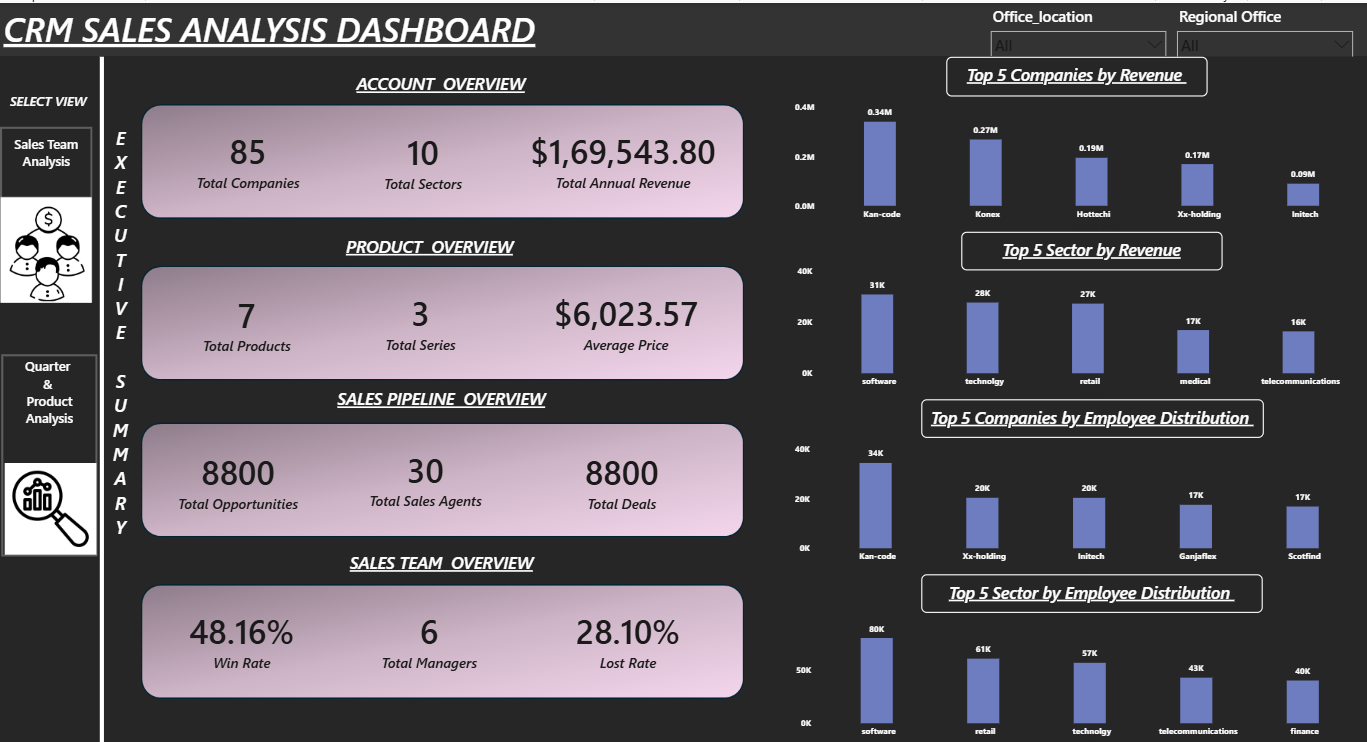

What the dashboard file says about the page in this screenshot:
{"tool":"powerbi","page":{"name":"Executive Summary","canvas":[1980,1080],"ordinal":0},"visuals":[{"type":"card","fields":{"Values":["Account_Clean.Total Companies"]},"box":[231.6,146.6,255.2,159.3],"z":0},{"type":"actionButton","box":[0,179.2,133.9,253.4],"z":0,"group":"g1"},{"type":"actionButton","box":[1.8,508.5,139.3,293.2],"z":0,"group":"g2"},{"type":"card","fields":{"Values":["Account_Clean.Total Sectors"]},"box":[483.2,150.2,258.8,155.6],"z":1000},{"type":"textbox","box":[0,186.4,133.9,71.9],"z":1000,"group":"g1"},{"type":"textbox","box":[1.8,508.5,139.3,110.5],"z":1000,"group":"g2"},{"type":"image","box":[0,280.7,133.9,153.8],"z":2000,"group":"g1"},{"type":"card","fields":{"Values":["Account_Clean.Total Products"]},"box":[228,385.5,258.8,155.6],"z":2000},{"type":"image","box":[3.6,665.5,139.3,133],"z":2000,"group":"g2"},{"type":"card","fields":{"Values":["Account_Clean.Total Opportunities"]},"box":[215.3,613.5,259,155],"z":3000},{"type":"card","fields":{"Values":["Account_Clean.Total Managers"]},"box":[492.2,843.3,258.8,155.6],"z":4000},{"type":"card","fields":{"Values":["Account_Clean.Total Sales Agents"]},"box":[486.8,609.9,258.8,155.6],"z":5000},{"type":"card","fields":{"Values":["Account_Clean.Total Deals"]},"box":[770.9,613.5,258.8,155.6],"z":6000},{"type":"card","fields":{"Values":["Account_Clean.Total Revenue"]},"box":[738.3,146.6,327.5,159.3],"z":7000},{"type":"shape","box":[0,0,1979.2,77],"z":8000},{"type":"textbox","box":[0,0,854.8,77],"z":9000},{"type":"clusteredColumnChart","fields":{"Category":["Account_Clean.Sector"],"Y":["Account_Clean.Total Annual Revenue"]},"box":[1150.9,376.4,821.6,197.3],"z":10000},{"type":"clusteredColumnChart","fields":{"Y":["Sum(SalesPipeline_Clean.Revenue)"],"Category":["Account_Clean.Company_name"]},"box":[1147.3,135.7,832.4,195.4],"z":11000},{"type":"textbox","box":[1369.9,77.8,378.2,57.9],"z":12000},{"type":"textbox","box":[1391.6,331.2,378.2,56.1],"z":13000},{"type":"textbox","box":[1333.7,573.7,495.8,56.1],"z":14000},{"type":"card","fields":{"Values":["Account_Clean.Average Price"]},"box":[774.5,383.6,264.2,155.6],"z":15000},{"type":"textbox","box":[479.6,95.9,316.7,54.3],"z":16000},{"type":"textbox","box":[463.3,331.2,316.7,54.3],"z":17000},{"type":"textbox","box":[448.8,551.9,380,57.9],"z":18000},{"type":"textbox","box":[443.4,789,390.9,54.3],"z":19000},{"type":"textbox","box":[146.6,171.9,56.1,671.4],"z":20000},{"type":"shape","box":[133.9,77.8,27.1,1002.6],"z":21000},{"type":"slicer","fields":{"Values":["SalesTeam_Clean.Regional_office"]},"box":[1693.8,0,275.1,77.8],"z":22000},{"type":"card","fields":{"Values":["Account_Clean.Win Rate"]},"box":[220.8,843.3,258.8,155.6],"z":23000},{"type":"card","fields":{"Values":["Account_Clean.Lost Rate"]},"box":[780,843.3,258.8,155.6],"z":24000},{"type":"card","fields":{"Values":["Count(Product_Clean.Series)"]},"box":[479.6,383.6,258.8,155.6],"z":25000},{"type":"slicer","fields":{"Values":["Account_Clean.Office_location"]},"box":[1424.3,0,273.8,76.4],"z":26000},{"type":"clusteredColumnChart","fields":{"Y":["Sum(Account_Clean.Employee_Count)"],"Category":["Account_Clean.Company_name"]},"box":[1147.3,629.8,832.4,197.3],"z":27000},{"type":"clusteredColumnChart","fields":{"Y":["Sum(Account_Clean.Employee_Count)"],"Category":["Account_Clean.Sector"]},"box":[1149.1,883.1,830.6,197.3],"z":28000},{"type":"textbox","box":[1333.7,827,494,56.1],"z":29000},{"type":"group","id":"g1","title":"Group 1","box":[0,179.2,133.9,255.2],"z":30000},{"type":"group","id":"g2","title":"Group 1","box":[1.8,508.5,141.2,293.2],"z":31000},{"type":"textbox","box":[3.6,124.9,132.1,50.7],"z":32000}]}

Visuals, with their boxes in screenshot pixels (x1, y1, x2, y2), scaled from the page's 1980x1080 canvas onto the 1367x742 screenshot:
card - Account_Clean.Total Companies: 160, 101, 336, 210
actionButton: 0, 123, 92, 297
actionButton: 1, 349, 97, 551
card - Account_Clean.Total Sectors: 334, 103, 512, 210
textbox: 0, 128, 92, 177
textbox: 1, 349, 97, 425
image: 0, 193, 92, 299
card - Account_Clean.Total Products: 157, 265, 336, 372
image: 2, 457, 99, 549
card - Account_Clean.Total Opportunities: 149, 421, 327, 528
card - Account_Clean.Total Managers: 340, 579, 518, 686
card - Account_Clean.Total Sales Agents: 336, 419, 515, 526
card - Account_Clean.Total Deals: 532, 421, 711, 528
card - Account_Clean.Total Revenue: 510, 101, 736, 210
shape: 0, 0, 1366, 53
textbox: 0, 0, 590, 53
clusteredColumnChart - Account_Clean.Sector x Account_Clean.Total Annual Revenue: 795, 259, 1362, 394
clusteredColumnChart - Sum(SalesPipeline_Clean.Revenue) x Account_Clean.Company_name: 792, 93, 1366, 227
textbox: 946, 53, 1207, 93
textbox: 961, 228, 1222, 266
textbox: 921, 394, 1263, 433
card - Account_Clean.Average Price: 535, 264, 717, 370
textbox: 331, 66, 550, 103
textbox: 320, 228, 539, 265
textbox: 310, 379, 572, 419
textbox: 306, 542, 576, 579
textbox: 101, 118, 140, 579
shape: 92, 53, 111, 741
slicer - SalesTeam_Clean.Regional_office: 1169, 0, 1359, 53
card - Account_Clean.Win Rate: 152, 579, 331, 686
card - Account_Clean.Lost Rate: 539, 579, 717, 686
card - Count(Product_Clean.Series): 331, 264, 510, 370
slicer - Account_Clean.Office_location: 983, 0, 1172, 52
clusteredColumnChart - Sum(Account_Clean.Employee_Count) x Account_Clean.Company_name: 792, 433, 1366, 568
clusteredColumnChart - Sum(Account_Clean.Employee_Count) x Account_Clean.Sector: 793, 607, 1366, 741
textbox: 921, 568, 1262, 607
"Group 1" group: 0, 123, 92, 298
"Group 1" group: 1, 349, 99, 551
textbox: 2, 86, 94, 121
